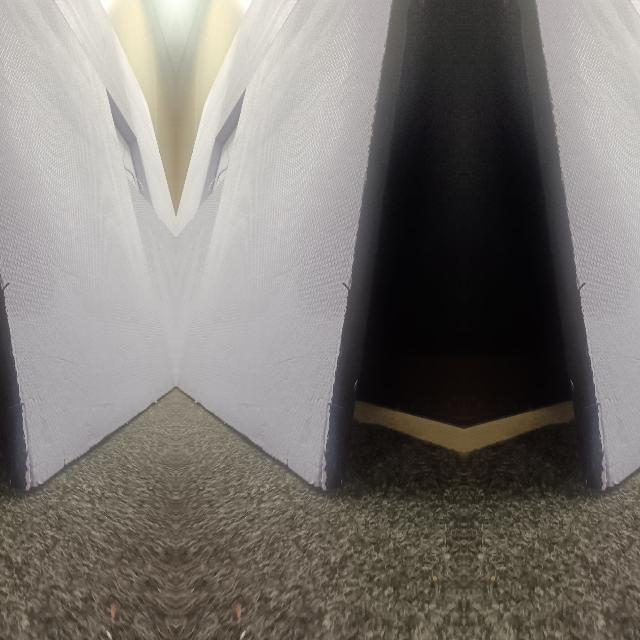obstacle: (175, 93, 401, 493), (0, 93, 175, 493), (526, 93, 640, 493)
